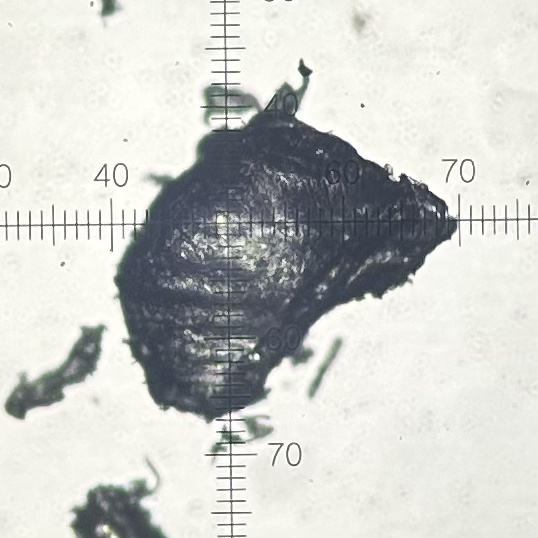microplastic: (110, 57, 461, 429), (1, 322, 109, 421), (65, 455, 168, 538), (202, 79, 267, 130), (308, 339, 342, 400), (244, 412, 275, 447), (96, 1, 127, 25), (207, 441, 229, 465), (218, 423, 242, 444)
